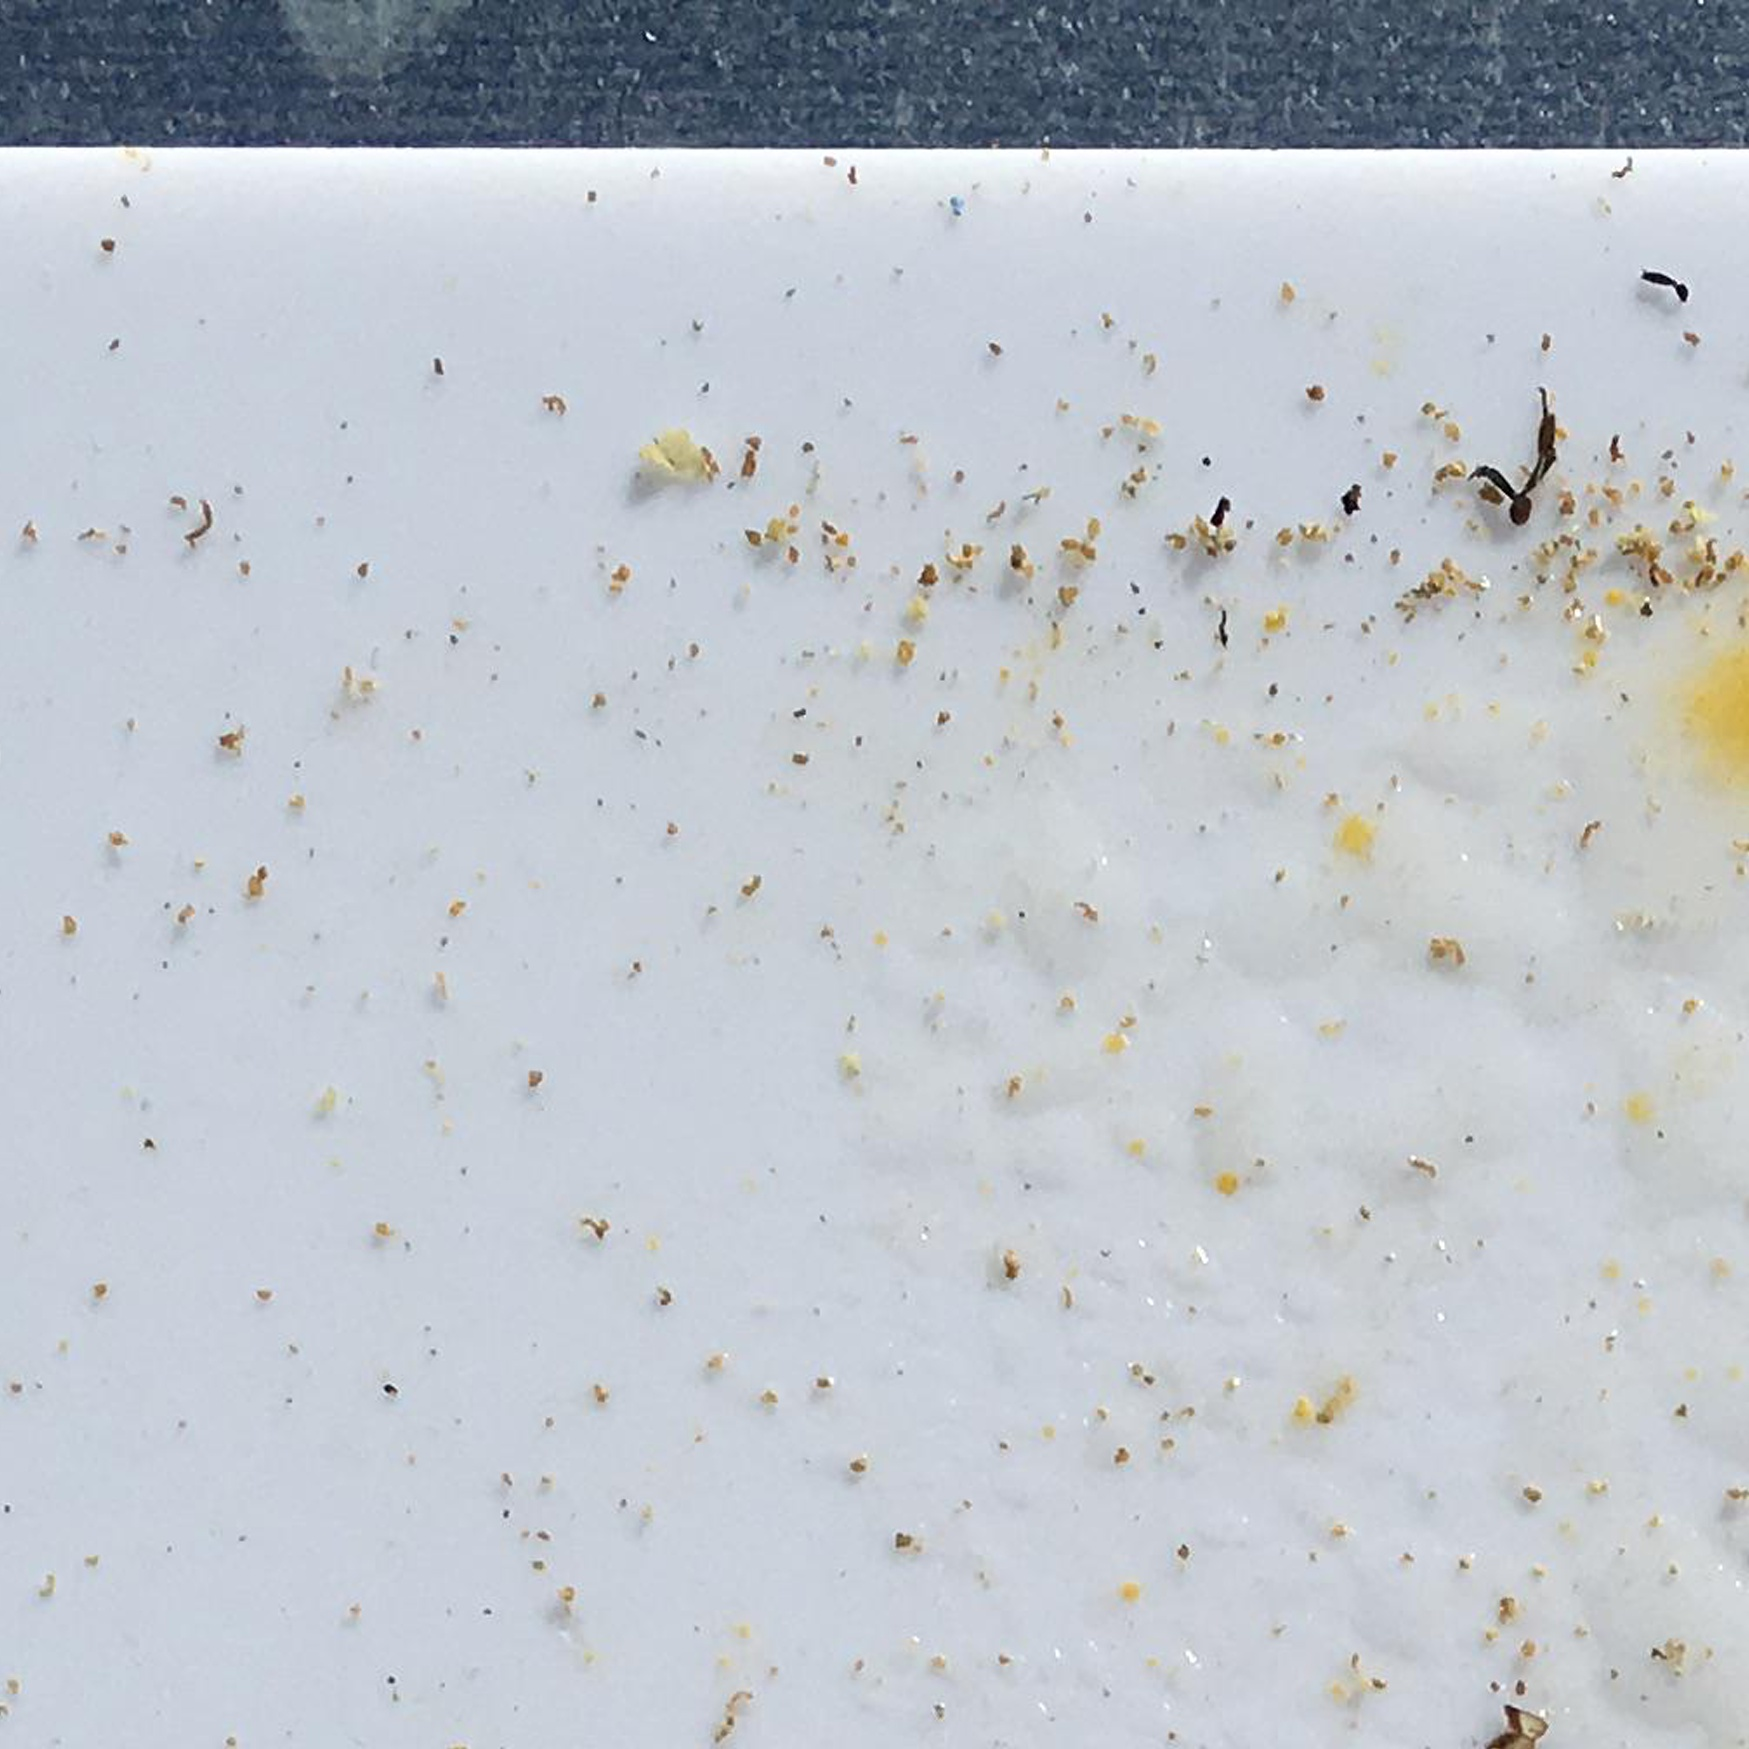Varroa: (1504, 484, 1538, 522)
